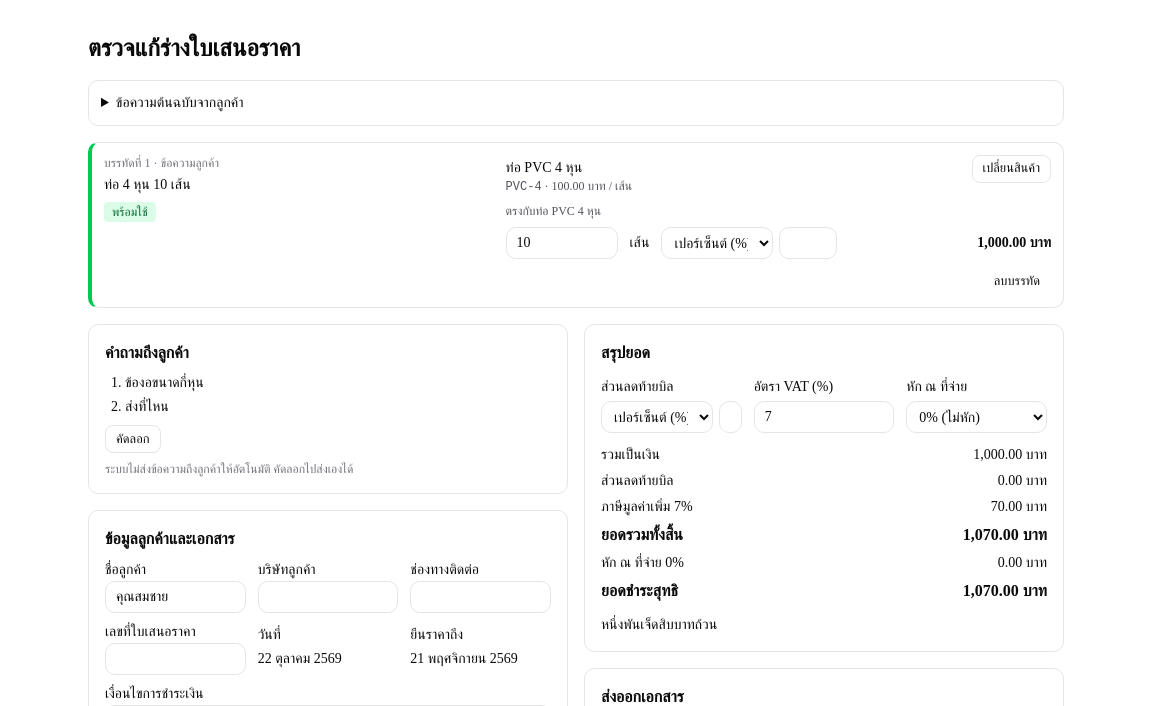
totals › shows subtotal, VAT with its rate, grand total, withholding, net payable and the amount in words
The image size is (1152, 706).
Expected: the text "1,000.00 บาท" in the row of "รวมเป็นเงิน" is shown, left=973, top=447, right=1047, bottom=462
Expected: the text "ภาษีมูลค่าเพิ่ม 7%" is shown, left=601, top=497, right=692, bottom=517
Select "3%" in the dropdown named "หัก ณ ที่จ่าย" at coordinates (977, 417), box left=906, top=401, right=1047, bottom=433
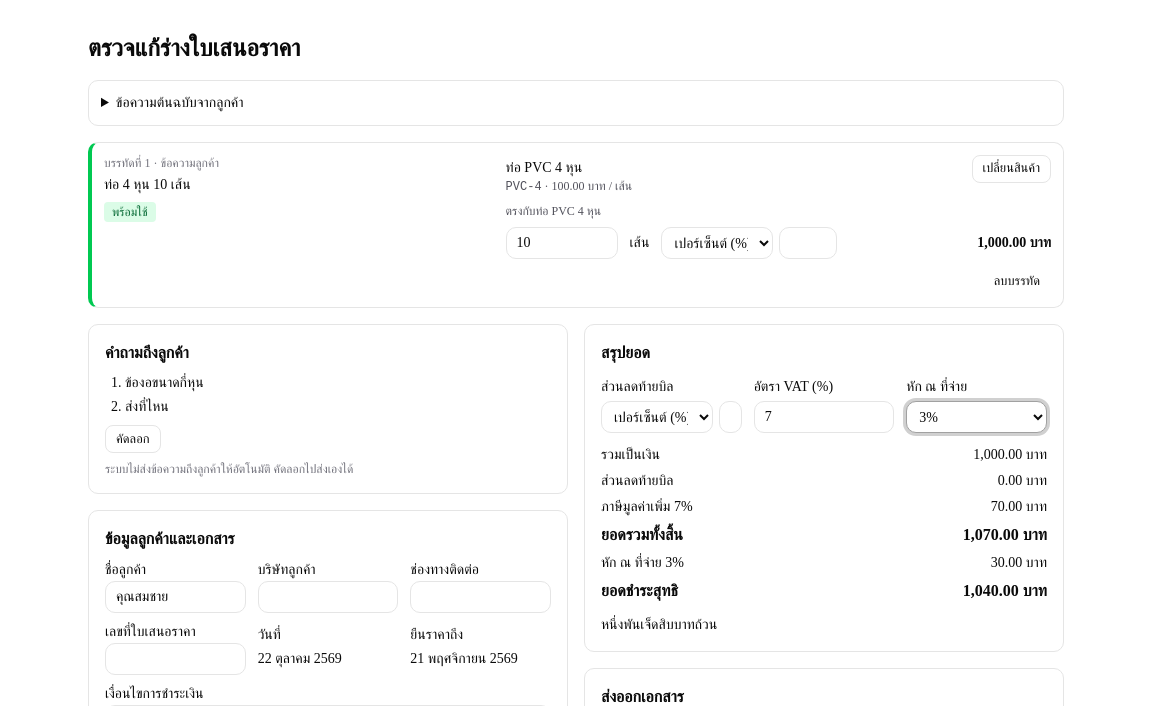
Expected: the text "30.00 บาท" is shown, left=991, top=553, right=1047, bottom=573
Expected: the text "1,040.00 บาท" is shown, left=963, top=579, right=1047, bottom=603
